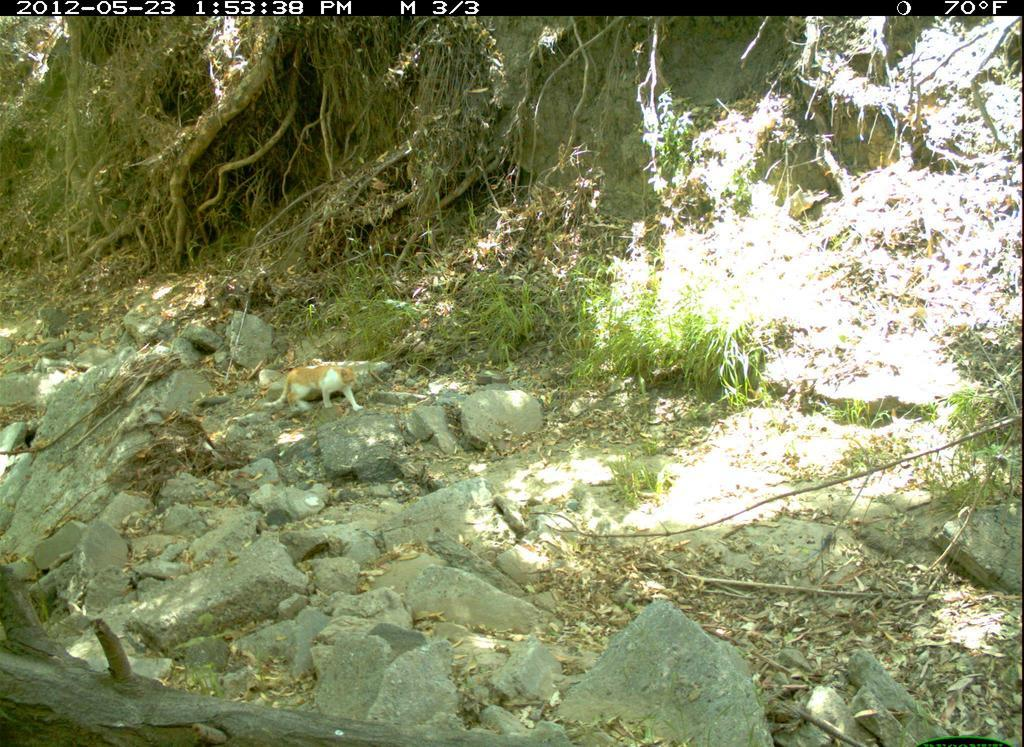cat: (251, 356, 390, 431)
